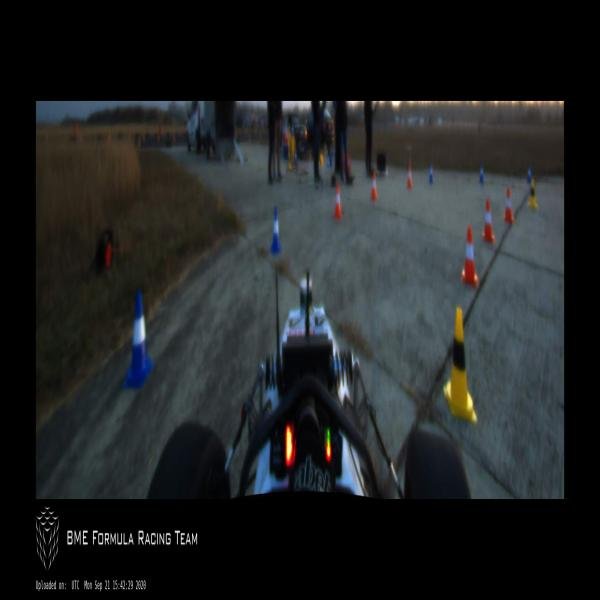blue_cone: (123, 290, 153, 388), (270, 207, 281, 253), (429, 160, 434, 183), (479, 164, 484, 184), (528, 164, 532, 184), (326, 154, 332, 167), (294, 149, 298, 163), (292, 125, 294, 137)
large_orange_cone: (343, 154, 351, 172)
orange_cone: (462, 223, 478, 283), (482, 198, 495, 244), (504, 187, 514, 225), (334, 185, 342, 219), (371, 172, 377, 200), (407, 162, 413, 188)
yellow_cone: (443, 310, 476, 423), (529, 179, 538, 210), (287, 153, 292, 170), (319, 154, 323, 165), (288, 125, 290, 137)
